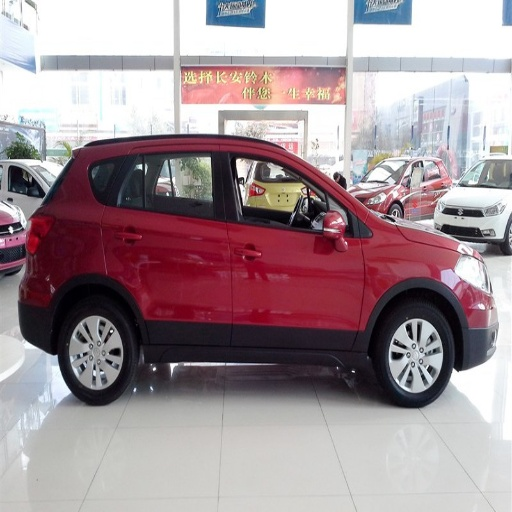back_right_door: (95, 140, 229, 346)
front_right_door: (223, 142, 363, 345)
